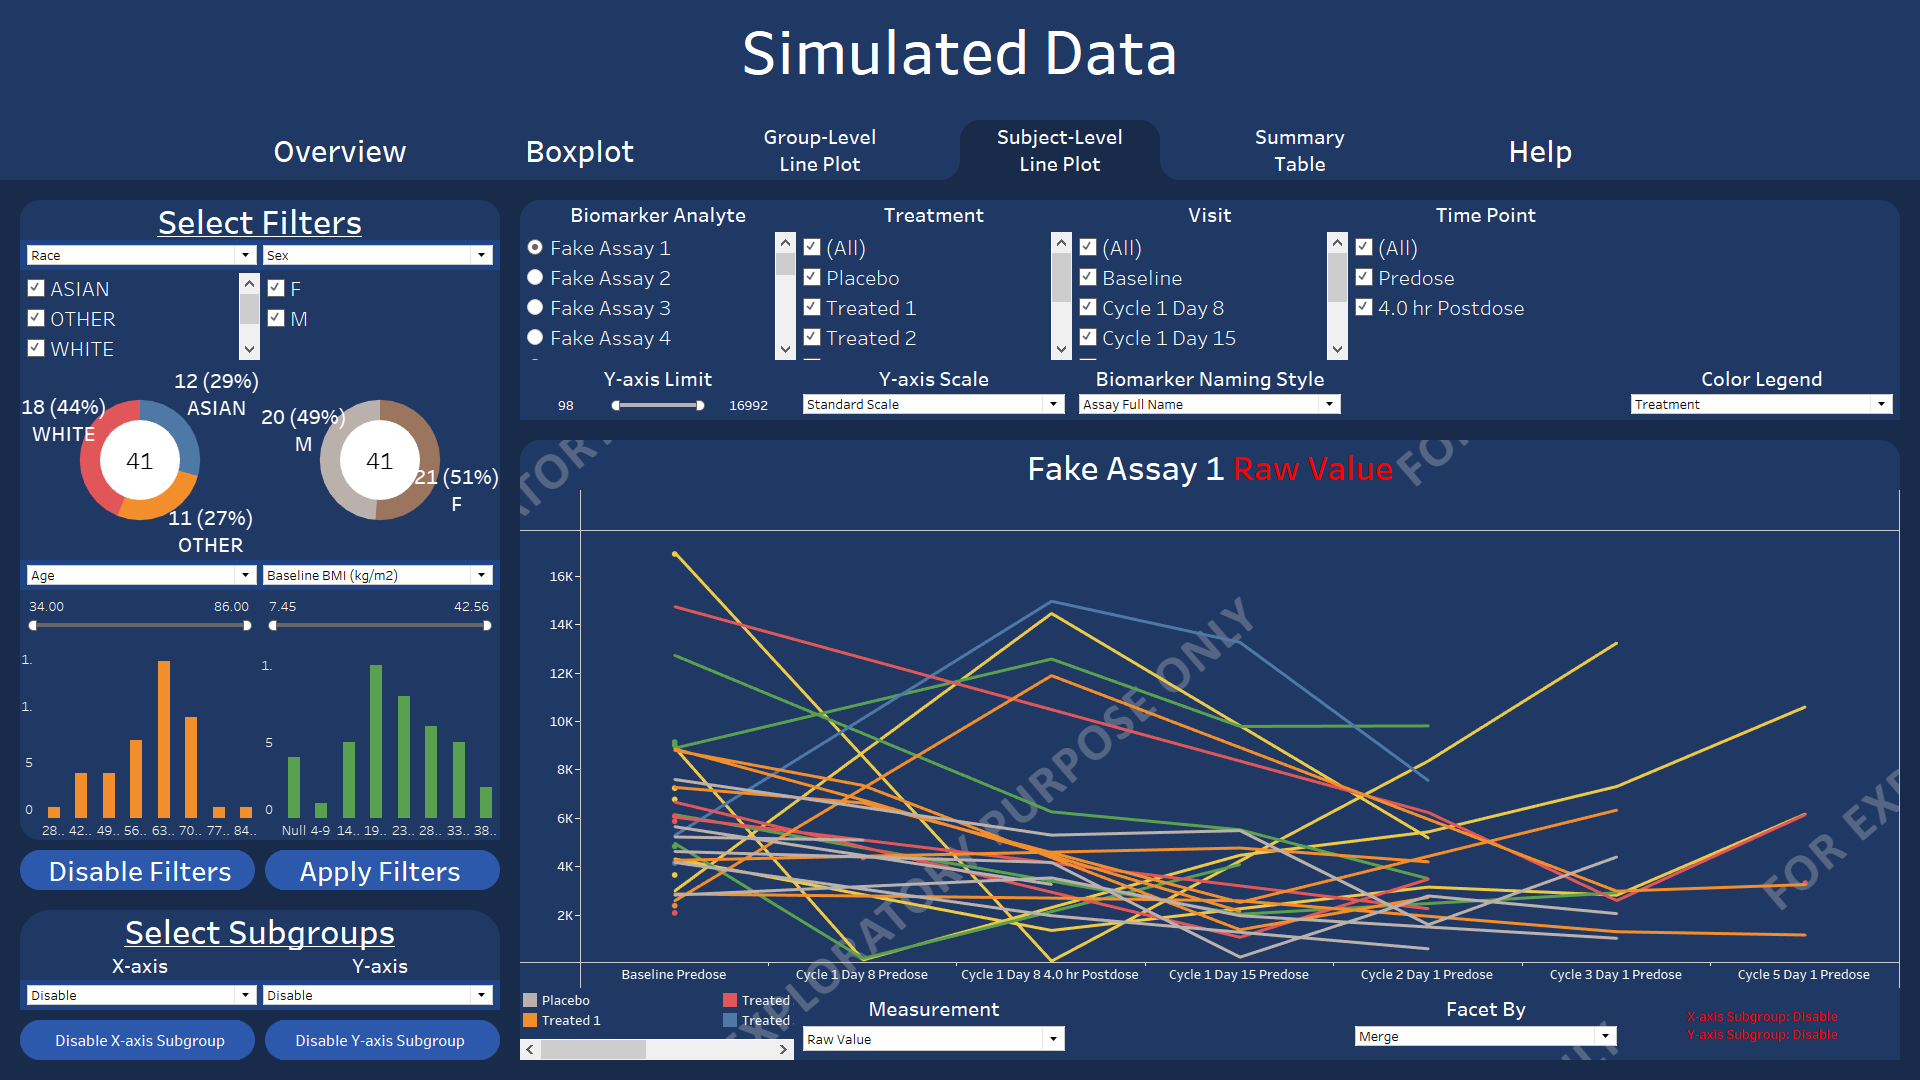

The dashboard page shown, as its layout file describes it:
{"tool":"tableau","page":{"name":"Page 4","canvas":[1920,1080],"ordinal":3},"visuals":[{"type":"image","param":"./Images/Page 4.png","box":[0,0,1920,1080]},{"type":"text","box":[0,0,1920,100]},{"type":"image","param":"./Images/Logo.png","box":[1740,20,160,140]},{"type":"dashboard-object","box":[260,120,160,60]},{"type":"dashboard-object","box":[500,120,160,60]},{"type":"dashboard-object","box":[740,120,160,60]},{"type":"dashboard-object","box":[980,120,160,60]},{"type":"dashboard-object","box":[1220,120,160,60]},{"type":"dashboard-object","box":[1460,120,160,60]},{"type":"text","box":[40,200,440,40]},{"type":"filter","title":"Subject","param":"[federated.0bgs2np0ubmnyx161jsei1idfbdz].[none:Calculation_1399493605777907713:n","box":[520,200,276,160]},{"type":"filter","title":"Subject","param":"[federated.0bgs2np0ubmnyx161jsei1idfbdz].[none:Treatment:nk]","box":[796,200,276,160]},{"type":"filter","title":"Subject","param":"[federated.0bgs2np0ubmnyx161jsei1idfbdz].[none:Visit:nk]","box":[1072,200,276,160]},{"type":"filter","title":"Subject","param":"[federated.0bgs2np0ubmnyx161jsei1idfbdz].[none:Time Point:nk]","box":[1348,200,276,160]},{"type":"blank","box":[1624,200,276,160]},{"type":"parameter","param":"[Parameters].[Parameter 6]","box":[20,240,240,30]},{"type":"parameter","param":"[Parameters].[Filter 1 (copy)_2147091142217383943]","box":[260,240,240,30]},{"type":"filter","title":"Apply Filters","param":"[federated.0bgs2np0ubmnyx161jsei1idfbdz].[Action (Filter A)]","box":[20,270,240,90]},{"type":"filter","title":"Apply Filters","param":"[federated.0bgs2np0ubmnyx161jsei1idfbdz].[Action (Filter B)]","box":[260,270,240,90]},{"type":"worksheet","title":"Filter A","mark":"Pie","rows":["Number of Records","Number of Records"],"box":[20,360,240,200]},{"type":"worksheet","title":"Filter B","mark":"Pie","rows":["Number of Records","Number of Records"],"box":[260,360,240,200]},{"type":"filter","title":"Limit & Title","param":"[federated.0bgs2np0ubmnyx161jsei1idfbdz].[none:Calculation1 (copy)_1927822166417","box":[520,360,276,60]},{"type":"parameter","param":"[Parameters].[Subject Log (copy)_837669554009337857]","box":[796,360,276,60]},{"type":"parameter","param":"[Parameters].[Parameter 7]","box":[1072,360,276,60]},{"type":"blank","box":[1348,360,276,60]},{"type":"parameter","param":"[Parameters].[Color Legend (copy) (copy)_1153484508291088388]","box":[1624,360,276,60]},{"type":"worksheet","title":"Limit & Title","mark":"Bar","box":[520,440,1380,50]},{"type":"worksheet","title":"Subject","mark":"Line","rows":["Parameter Subgroup (copy)_398005658140692481","Measurement Value"],"cols":["Calculation_1399493605777907713","Calculation_1434959453511581697","Parameter Donut (copy)_2147091142108528641","First (copy)_2147091142109335556"],"box":[520,490,1380,499]},{"type":"parameter","param":"[Parameters].[Filter 10 (copy)_2147091143218429981]","box":[20,560,240,30]},{"type":"parameter","param":"[Parameters].[Filter 11 (copy)_2147091143220174886]","box":[260,560,240,30]},{"type":"filter","title":"Apply Filters","param":"[federated.0bgs2np0ubmnyx161jsei1idfbdz].[none:Filter 10 (copy)_2147091143217770","box":[20,590,240,60]},{"type":"filter","title":"Apply Filters","param":"[federated.0bgs2np0ubmnyx161jsei1idfbdz].[none:Filter 11 (copy)_2147091143219843","box":[260,590,240,60]},{"type":"worksheet","title":"Filter 1","mark":"Bar","rows":["SUBJID"],"cols":["Range_bin (copy)_1342635660859174917"],"box":[20,650,240,190]},{"type":"worksheet","title":"Filter 2","mark":"Bar","rows":["SUBJID"],"cols":["Range_bin (copy) (copy)_1342635660859191302"],"box":[260,650,240,190]},{"type":"worksheet","title":"Disable Filters","mark":"Bar","rows":["Calculation_1927822166357254144"],"box":[40,850,200,40]},{"type":"worksheet","title":"Apply Filters","mark":"Bar","rows":["Calculation_299207918635597825"],"box":[280,850,200,40]},{"type":"text","box":[40,910,440,40]},{"type":"text","box":[20,950,240,30]},{"type":"text","box":[260,950,240,30]},{"type":"parameter","param":"[Parameters].[Parameter 8]","box":[20,980,240,30]},{"type":"parameter","param":"[Parameters].[Parameter Subgroup (copy)_398005658140794882]","box":[260,980,240,30]},{"type":"worksheet","title":"Subject Log","mark":"Line","rows":["Parameter Subgroup (copy)_398005658140692481","Measurement Value"],"cols":["Calculation_1399493605777907713","Calculation_1434959453511581697","Parameter Donut (copy)_2147091142108528641","First (copy)_2147091142109335556"],"box":[520,989,1380,1]},{"type":"legend","title":"Limit & Title","param":"[federated.0bgs2np0ubmnyx161jsei1idfbdz].[none:Calculation_398005657710465024:nk","box":[520,990,276,70]},{"type":"filter","title":"Measurement Holder","param":"[federated.0bgs2np0ubmnyx161jsei1idfbdz].[none:Measurement:nk]","box":[796,990,276,70]},{"type":"worksheet","title":"Measurement Holder","mark":"Automatic","box":[1072,990,276,70]},{"type":"parameter","param":"[Parameters].[Parameter Level (copy)_1212031282993364993]","box":[1348,990,276,70]},{"type":"text","box":[1624,990,276,70]},{"type":"worksheet","title":"Disable Subgroup X","mark":"Bar","rows":["Disable Filters (copy)_1153484508334944261"],"box":[40,1020,200,40]},{"type":"worksheet","title":"Disable Subgroup Y","mark":"Bar","rows":["Disable Subgroup X (copy)_2403796301676781568"],"box":[280,1020,200,40]}]}

Visuals, with their boxes in screenshot pixels (x1, y1, x2, y2), scaled from the page's 1920x1080 canvas onto the 1920x1080 screenshot:
image: crop(0, 0, 1919, 1079)
text: crop(0, 0, 1919, 100)
image: crop(1740, 20, 1900, 160)
dashboard-object: crop(260, 120, 420, 180)
dashboard-object: crop(500, 120, 660, 180)
dashboard-object: crop(740, 120, 900, 180)
dashboard-object: crop(980, 120, 1140, 180)
dashboard-object: crop(1220, 120, 1380, 180)
dashboard-object: crop(1460, 120, 1620, 180)
text: crop(40, 200, 480, 240)
"Subject" filter: crop(520, 200, 796, 360)
"Subject" filter: crop(796, 200, 1072, 360)
"Subject" filter: crop(1072, 200, 1348, 360)
"Subject" filter: crop(1348, 200, 1624, 360)
blank: crop(1624, 200, 1900, 360)
parameter: crop(20, 240, 260, 270)
parameter: crop(260, 240, 500, 270)
"Apply Filters" filter: crop(20, 270, 260, 360)
"Apply Filters" filter: crop(260, 270, 500, 360)
"Filter A" worksheet (Pie marks): crop(20, 360, 260, 560)
"Filter B" worksheet (Pie marks): crop(260, 360, 500, 560)
"Limit & Title" filter: crop(520, 360, 796, 420)
parameter: crop(796, 360, 1072, 420)
parameter: crop(1072, 360, 1348, 420)
blank: crop(1348, 360, 1624, 420)
parameter: crop(1624, 360, 1900, 420)
"Limit & Title" worksheet (Bar marks): crop(520, 440, 1900, 490)
"Subject" worksheet (Line marks): crop(520, 490, 1900, 989)
parameter: crop(20, 560, 260, 590)
parameter: crop(260, 560, 500, 590)
"Apply Filters" filter: crop(20, 590, 260, 650)
"Apply Filters" filter: crop(260, 590, 500, 650)
"Filter 1" worksheet (Bar marks): crop(20, 650, 260, 840)
"Filter 2" worksheet (Bar marks): crop(260, 650, 500, 840)
"Disable Filters" worksheet (Bar marks): crop(40, 850, 240, 890)
"Apply Filters" worksheet (Bar marks): crop(280, 850, 480, 890)
text: crop(40, 910, 480, 950)
text: crop(20, 950, 260, 980)
text: crop(260, 950, 500, 980)
parameter: crop(20, 980, 260, 1010)
parameter: crop(260, 980, 500, 1010)
"Subject Log" worksheet (Line marks): crop(520, 989, 1900, 990)
"Limit & Title" legend: crop(520, 990, 796, 1060)
"Measurement Holder" filter: crop(796, 990, 1072, 1060)
"Measurement Holder" worksheet: crop(1072, 990, 1348, 1060)
parameter: crop(1348, 990, 1624, 1060)
text: crop(1624, 990, 1900, 1060)
"Disable Subgroup X" worksheet (Bar marks): crop(40, 1020, 240, 1060)
"Disable Subgroup Y" worksheet (Bar marks): crop(280, 1020, 480, 1060)
